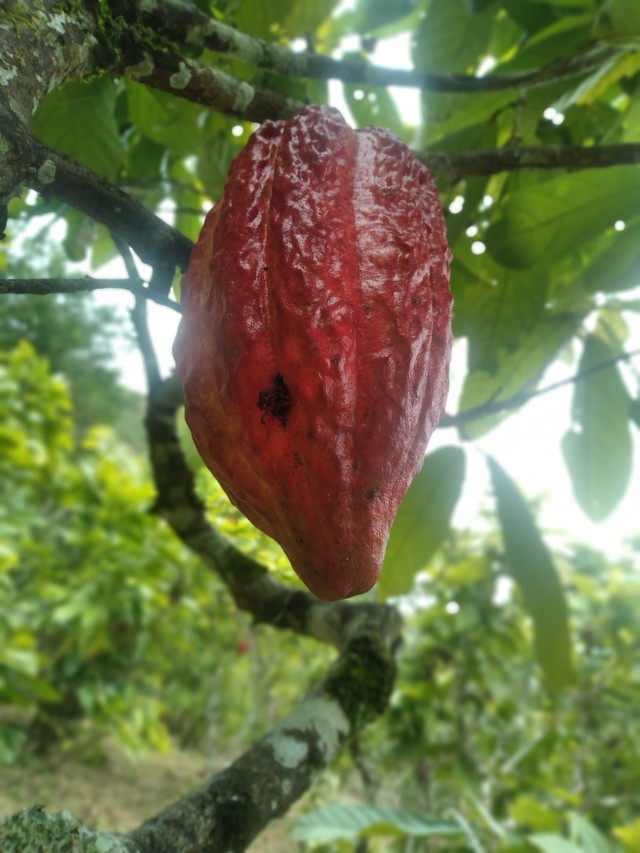carmenta foraseminis: (169, 97, 457, 606)
